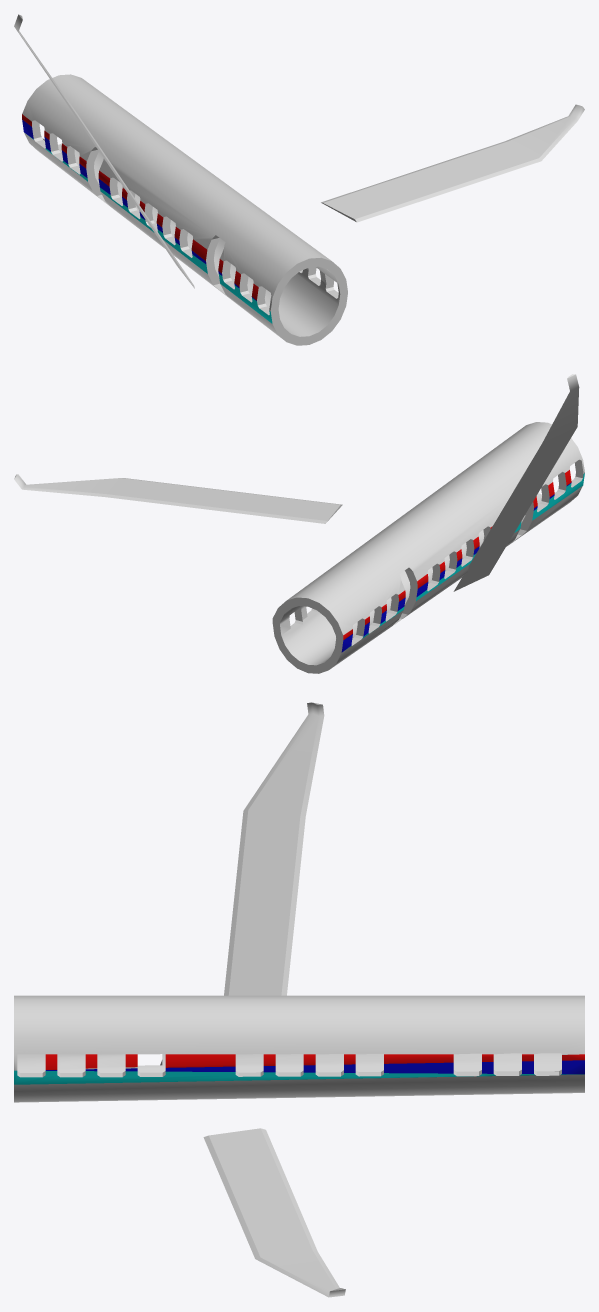
Rendered from aviao.fbx.
3 views of the same model, one above another, from view 1: azimuth 30°, elevation 25°; view 2: azimuth 150°, elevation 25°; view 3: azimuth 270°, elevation 25° (orthographic). The views are drawn at different scales.
Visible parts, largest first — view 1: polySurface35, pCube91, pCube90; view 2: polySurface35, pCube91, pCube90; view 3: polySurface35, pCube90, pCube91.
Part boxes in pixels (x1,y1,x2,y2): polySurface35: (22,74,347,345); pCube91: (321,104,584,222); pCube90: (14,14,194,288); polySurface35: (272,422,584,673); pCube91: (14,474,342,523); pCube90: (453,374,579,591); polySurface35: (14,995,584,1102); pCube90: (224,702,324,995); pCube91: (203,1128,345,1297).
Bounding box in the file's own units: 162 × 73.17 × 122.
